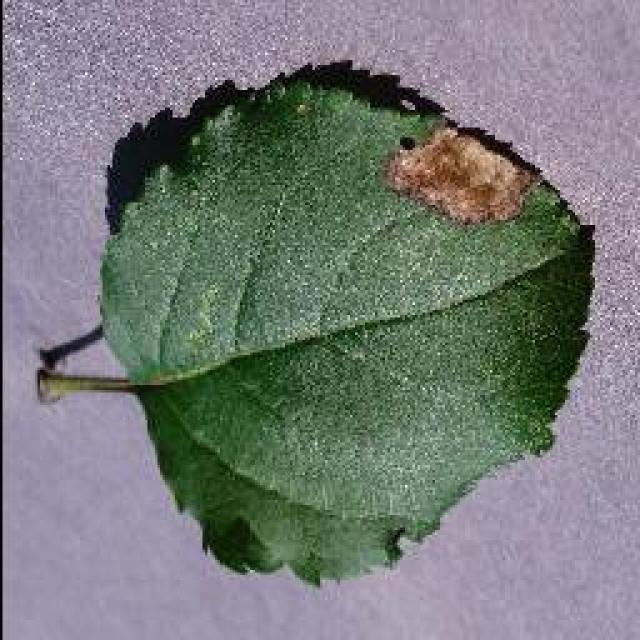apple scab disease: (40, 55, 598, 585)
